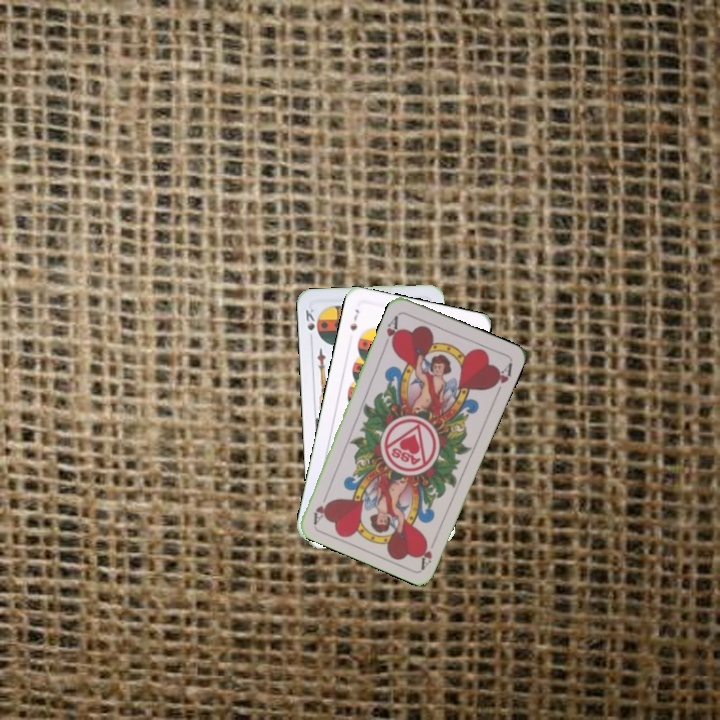HA: (380, 311, 402, 350), (415, 535, 435, 571)
S7: (346, 305, 362, 333)
SK: (302, 305, 317, 344)
